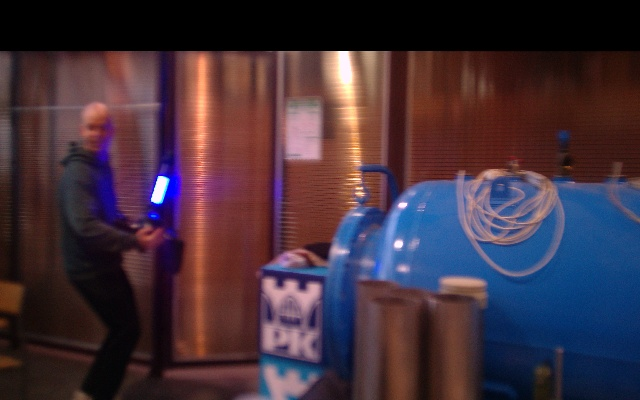blue: (152, 176, 170, 207)
